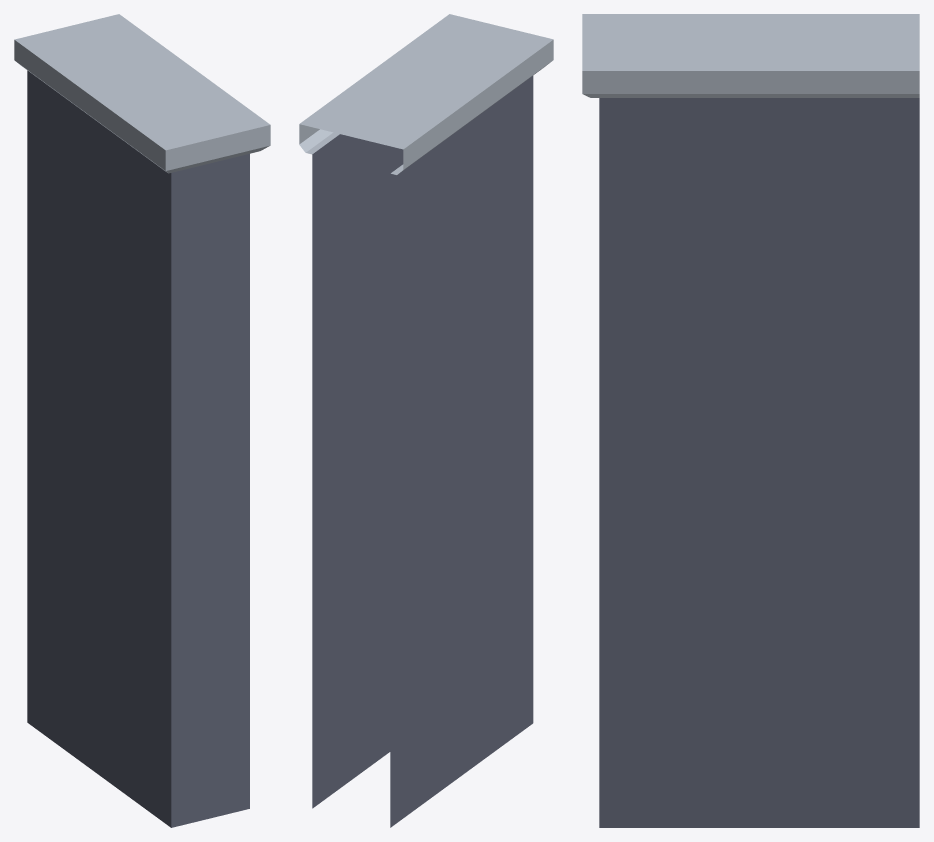
File: Stone_wall_end.fbx
3 views of the same model, side by side, from view 1: azimuth 30°, elevation 25°; view 2: azimuth 150°, elevation 25°; view 3: azimuth 270°, elevation 25° (orthographic). The views are drawn at different scales.
Visible parts, largest first — view 1: Stone_wall_end_object; view 2: Stone_wall_end_object; view 3: Stone_wall_end_object.
Boxes of the visible parts, x1,y1,x2,y2 form: Stone_wall_end_object: (14,14,270,827); Stone_wall_end_object: (299,14,553,827); Stone_wall_end_object: (582,14,919,827).
Size of what is drawn, in the model's own units: 800 by 5000 by 2000.
